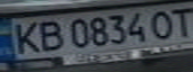0: (63, 16, 90, 50)
3: (106, 11, 130, 46)
4: (124, 9, 151, 43)
8: (87, 14, 109, 47)
B: (33, 18, 66, 53)
K: (6, 19, 45, 55)
O: (148, 7, 178, 39)
T: (166, 4, 193, 37)
